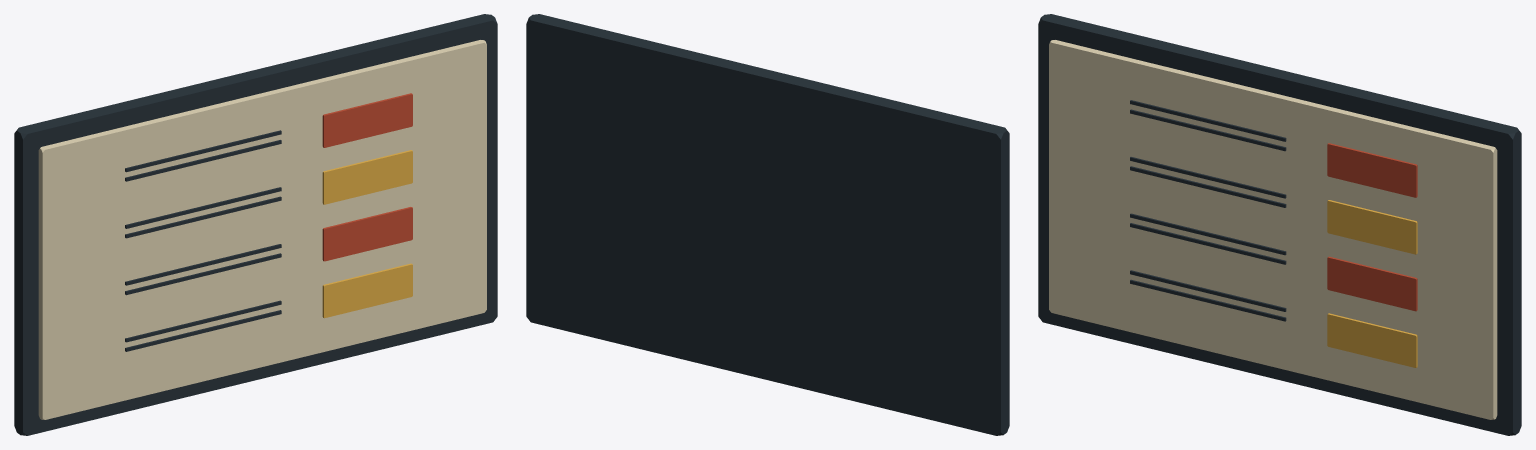
Rendered from WallMenuBoard.glb.
The picture shows the model from 3 angles, left to right: view 1: azimuth 30°, elevation 25°; view 2: azimuth 150°, elevation 25°; view 3: azimuth 330°, elevation 25°; orthographic projection.
Parts seen in each view (by area): view 1: WallMenuBoard; view 2: WallMenuBoard; view 3: WallMenuBoard.
Part boxes in pixels (x1,y1,x2,y2): WallMenuBoard: [14, 14, 497, 435]; WallMenuBoard: [526, 14, 1009, 435]; WallMenuBoard: [1038, 14, 1521, 435].
Bounding box in the file's own units: 1.25 × 0.76 × 0.067.
